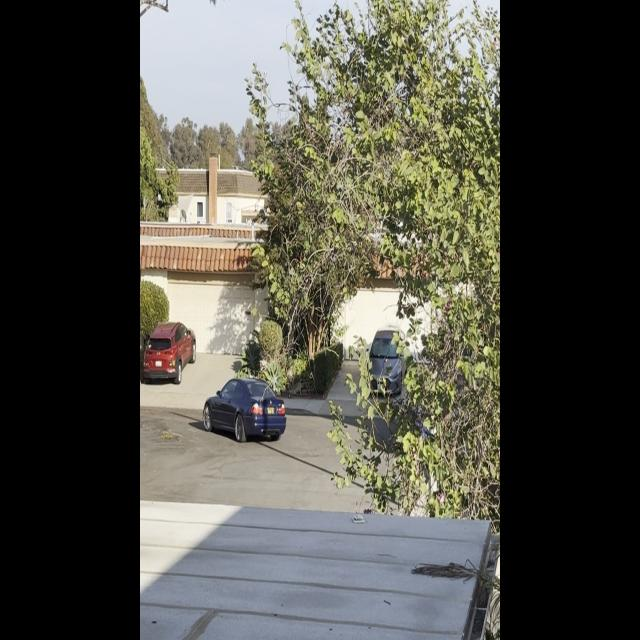Carbeetle: (202, 372, 288, 448)
Civilian: (140, 318, 199, 383), (363, 320, 409, 403)
